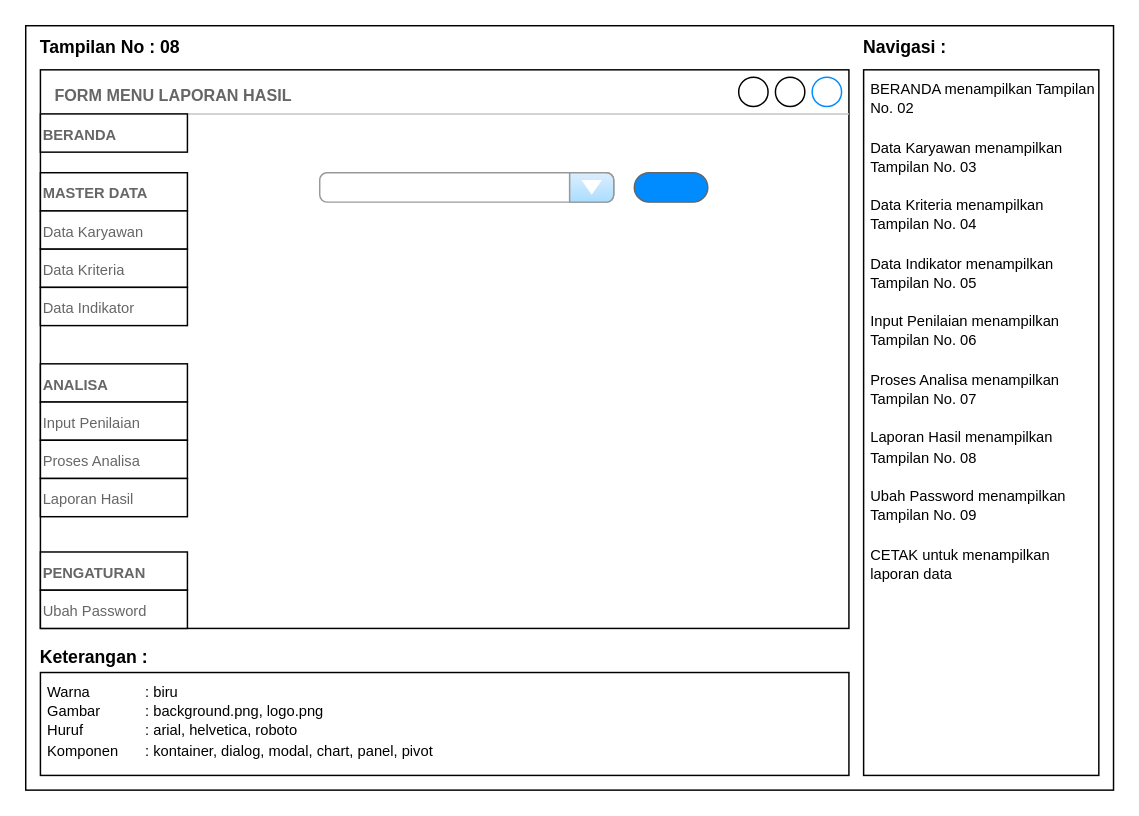
Some shapes in this 1139 by 816 pixel diagram are drawn without their labels. The shapes that lost their labels are listed below. From the top down, each one's centre as x and y in pixels, then its label:
At pixel 466 186: "Pilih Periode".
At pixel 670 186: "CETAK".
